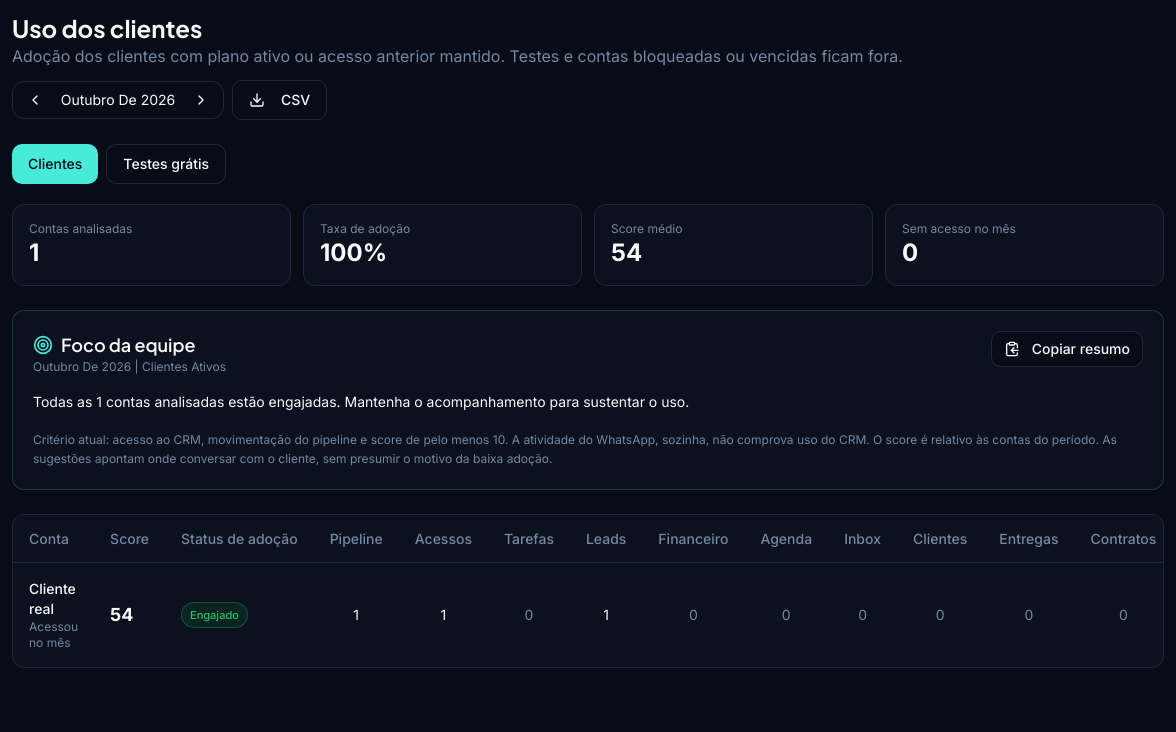
Test case: Account directory and separate trial usage › switches usage population without mixing client and trial names
Expected: the heading "Uso dos clientes" is shown, [12,13,202,43]
Expected: the text "Ítalo Guedes" is not shown
Click the button "Testes grátis" at (166, 164), box [106,144,226,184]
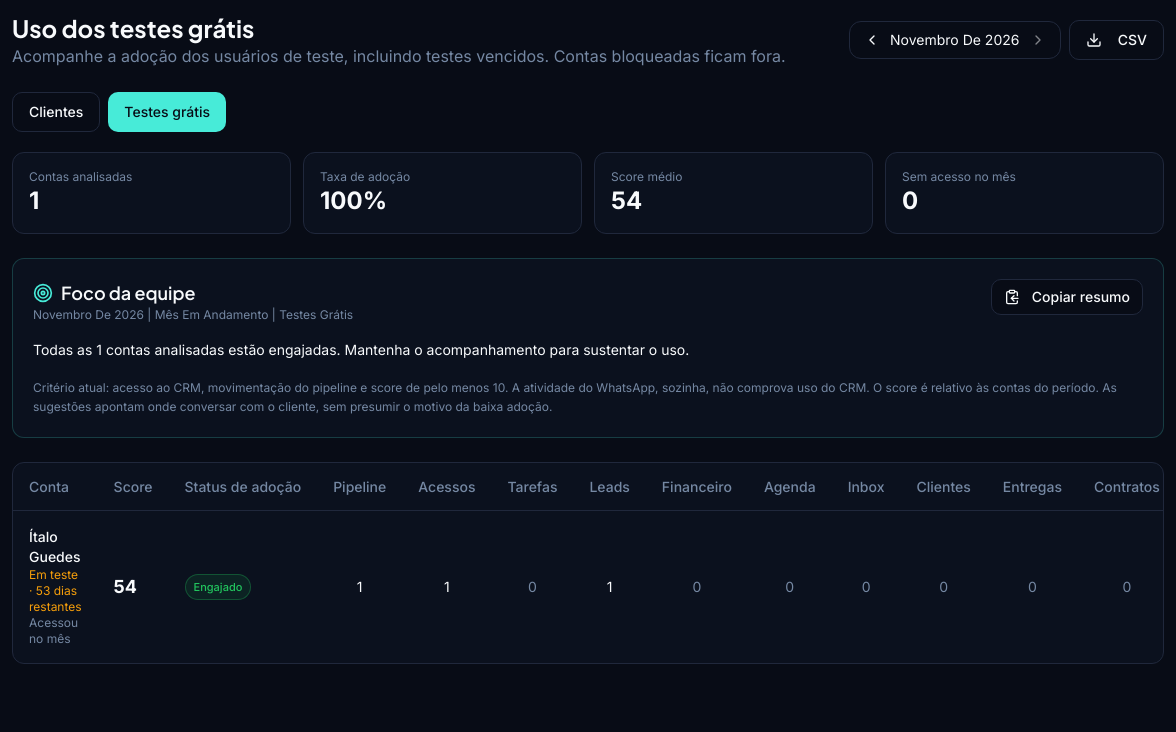
Result: the heading "Uso dos testes grátis" is shown at [12,13,254,43]
Result: the text "Ítalo Guedes" is shown at [29,527,82,567]
Result: the text "Cliente real" is gone
